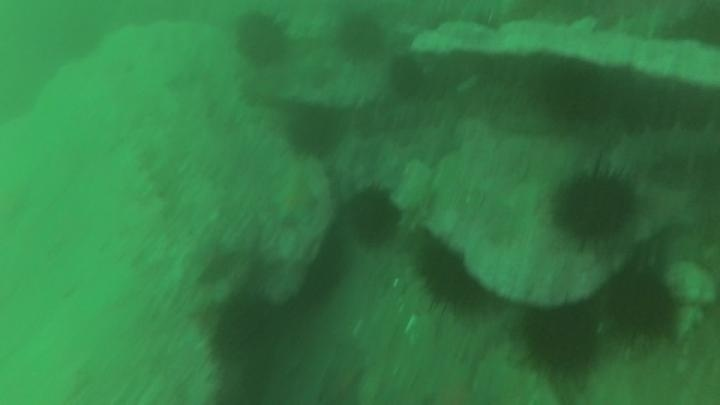echinus: (550, 165, 638, 248), (519, 306, 603, 379), (602, 266, 680, 342), (414, 239, 486, 313), (209, 290, 281, 364), (534, 65, 612, 127), (343, 184, 403, 248), (232, 10, 294, 69), (284, 106, 345, 160), (335, 13, 387, 63), (386, 53, 428, 100)
holothurian: (603, 120, 719, 179)
starfish: (629, 178, 701, 244), (405, 121, 463, 169), (269, 176, 321, 228), (317, 359, 369, 405)
